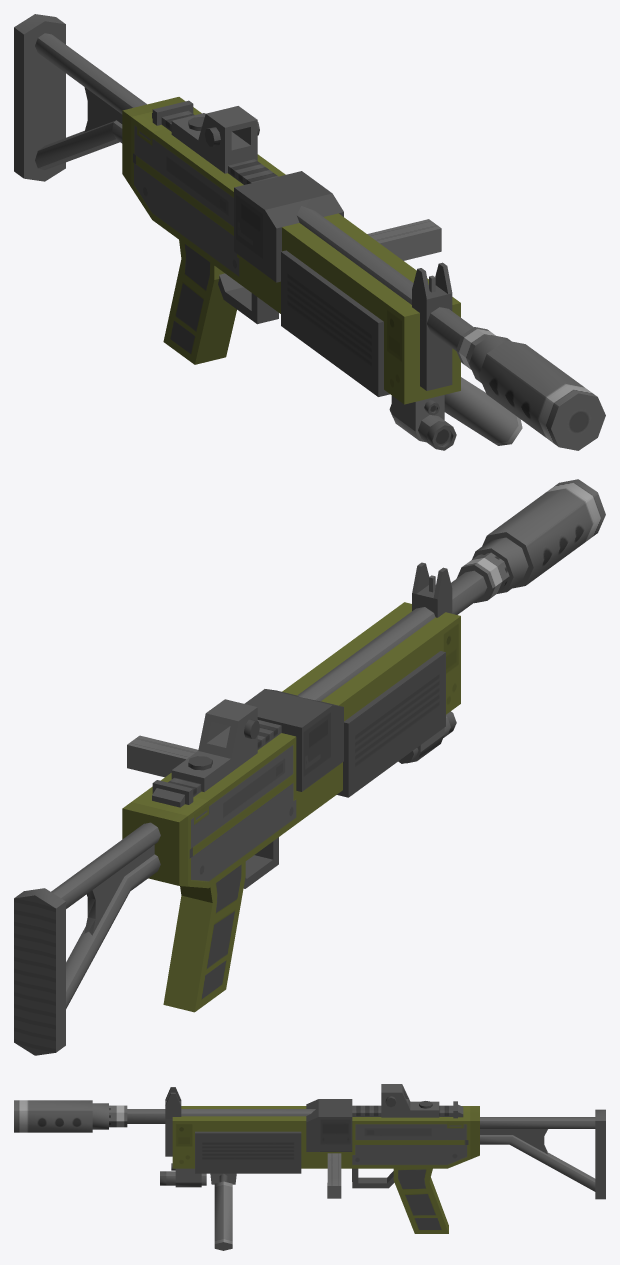
The model's file is FORT401.FBX.
3 renders of one model, top to bottom at view 1: azimuth 30°, elevation 25°; view 2: azimuth 150°, elevation 25°; view 3: azimuth 270°, elevation 25°, orthographic. The views are drawn at different scales.
Visible parts, largest first — view 1: FORT401; view 2: FORT401; view 3: FORT401.
Boxes of the visible parts, <box> form: FORT401: <box>14,14,605,450</box>; FORT401: <box>14,479,605,1055</box>; FORT401: <box>14,1084,605,1250</box>.
Bounding box in the file's own units: 0.3836 × 0.5153 × 1.95.
1 material, 1 textured.
